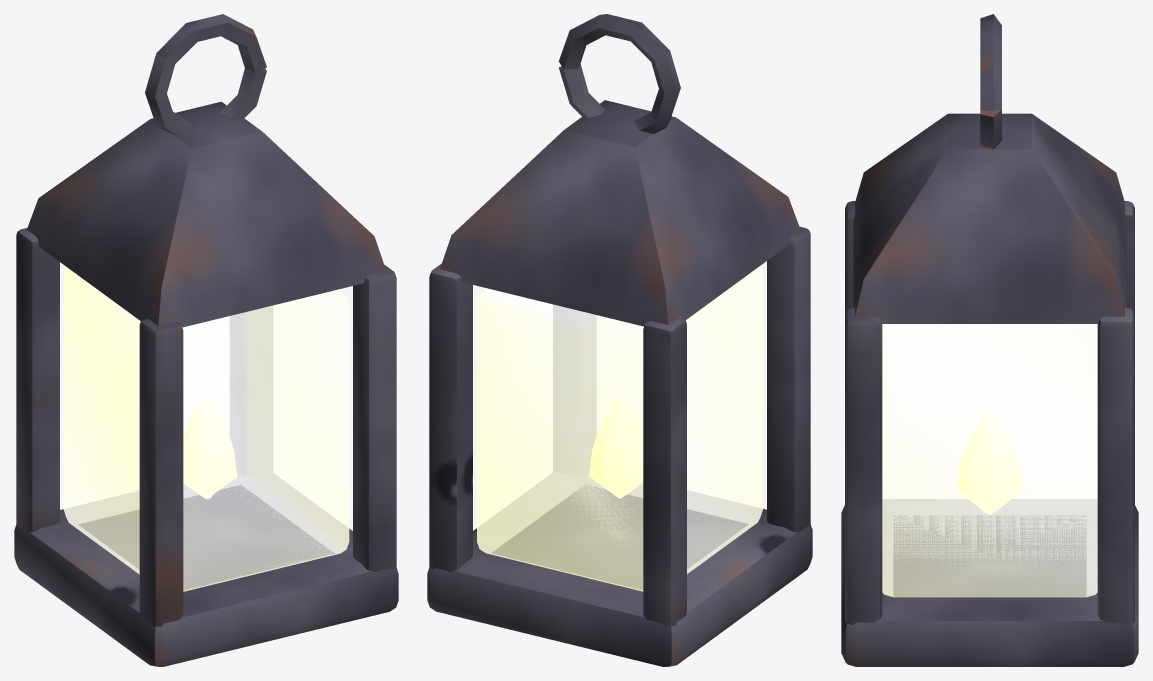
The model's file is lantern.gltf.
3 renders of one model, left to right at view 1: azimuth 30°, elevation 25°; view 2: azimuth 150°, elevation 25°; view 3: azimuth 270°, elevation 25°, orthographic. The views are drawn at different scales.
Parts seen in each view (by area): view 1: lantern_mesh, FLAME_lantern; view 2: lantern_mesh, FLAME_lantern; view 3: lantern_mesh, FLAME_lantern.
Boxes of the visible parts, left/top/right/bottom form: lantern_mesh: left=14, top=14, right=398, bottom=666; FLAME_lantern: left=183, top=395, right=236, bottom=499; lantern_mesh: left=427, top=14, right=812, bottom=666; FLAME_lantern: left=589, top=394, right=642, bottom=498; lantern_mesh: left=841, top=14, right=1138, bottom=666; FLAME_lantern: left=957, top=408, right=1022, bottom=514.
Size of the model in its own units: 0.2 by 0.4353 by 0.2.
4 materials, 1 textured.
